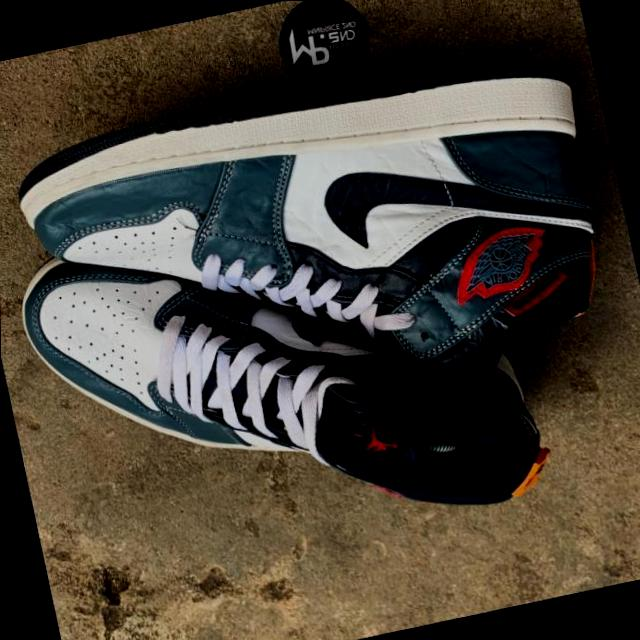nike_fake_jordan: (0, 28, 630, 460), (9, 163, 552, 592)
